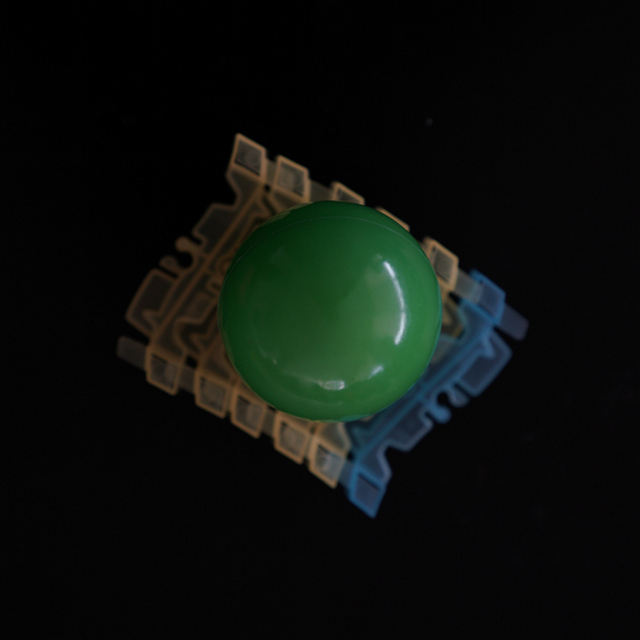Ball: (222, 200, 440, 419)
